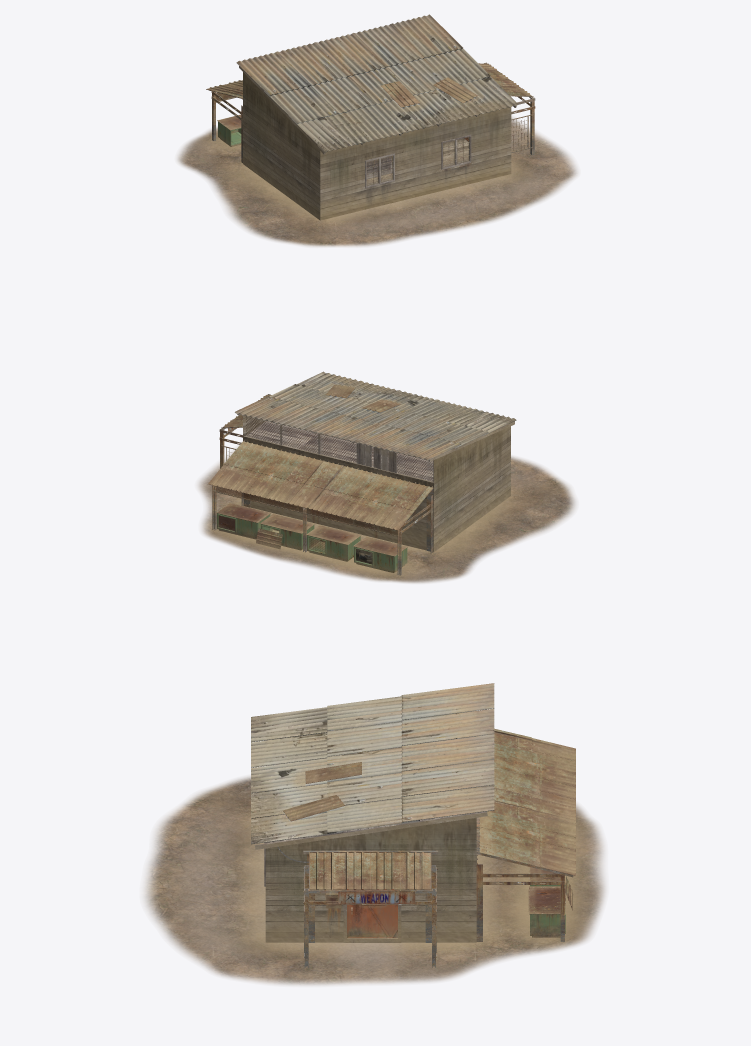
The picture shows the model from 3 angles, top to bottom: view 1: azimuth 30°, elevation 25°; view 2: azimuth 150°, elevation 25°; view 3: azimuth 270°, elevation 25°; orthographic projection. The views are drawn at different scales.
Visible parts, largest first — view 1: Roof, Plane, Wall, Woods, Irons, Environments; view 2: Roof, Plane, Wall, Environments, Woods, Tiles, Irons; view 3: Roof, Plane, Wall, Environments, Irons, Woods.
Boxes of the visible parts, x1,y1,x2,y2 form: Roof: [206, 14, 531, 152]; Plane: [177, 117, 577, 246]; Wall: [243, 72, 511, 220]; Woods: [239, 66, 516, 188]; Irons: [209, 62, 535, 162]; Environments: [216, 93, 527, 184]; Roof: [208, 371, 516, 549]; Plane: [197, 447, 575, 583]; Wall: [243, 415, 510, 552]; Environments: [216, 427, 407, 572]; Woods: [237, 413, 514, 481]; Tiles: [216, 416, 432, 553]; Irons: [209, 394, 433, 575]; Roof: [251, 683, 575, 910]; Plane: [144, 776, 605, 985]; Wall: [265, 711, 476, 942]; Environments: [277, 846, 565, 938]; Irons: [303, 736, 573, 967]; Woods: [254, 711, 487, 942].
Size of the model in its own units: 48 by 9.87 by 48.
8 materials, 8 textured.
